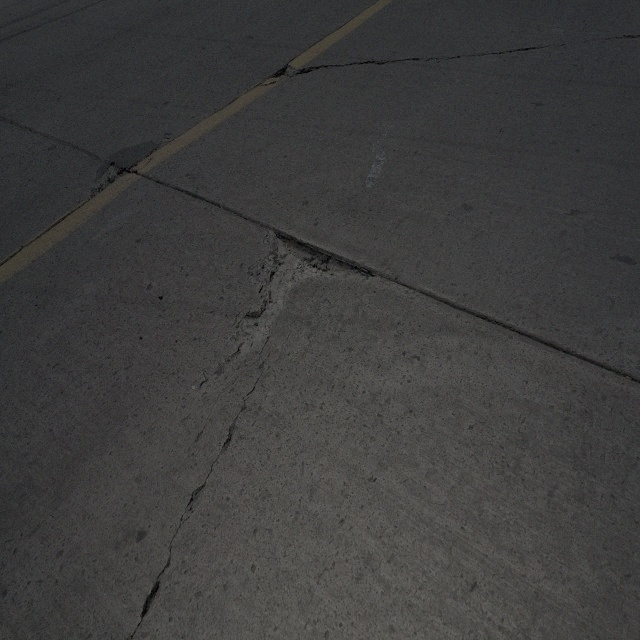pothole: (212, 210, 368, 362), (90, 153, 128, 194), (272, 62, 300, 80)
